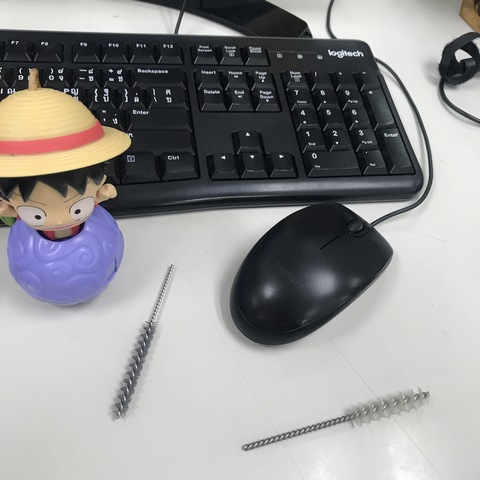Twist Brush-A: (113, 258, 169, 424)
Twist Brush-B: (230, 386, 435, 452)
